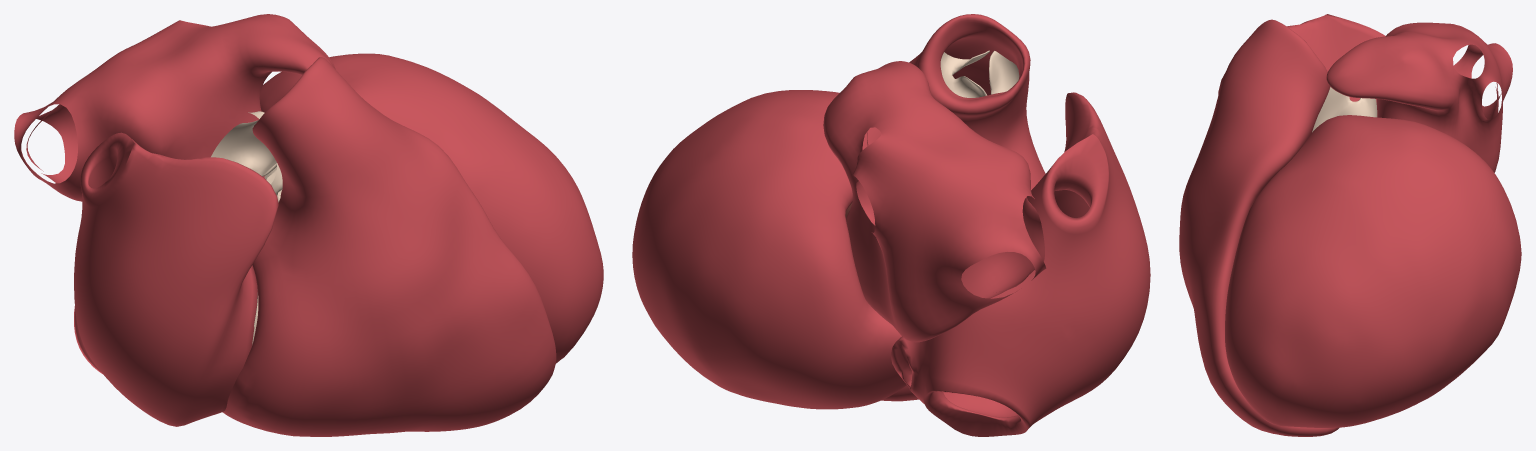
Rendered from heart-desktop.glb.
3 renders of one model, left to right at view 1: azimuth 30°, elevation 25°; view 2: azimuth 150°, elevation 25°; view 3: azimuth 270°, elevation 25°, orthographic. The views are drawn at different scales.
Parts seen in each view (by area): view 1: VH_F_right_ventricle, VH_F_right_cardiac_atrium, VH_F_left_ventricle, VH_F_left_cardiac_atrium, VH_F_aortic_valve; view 2: VH_F_left_ventricle, VH_F_right_cardiac_atrium, VH_F_left_cardiac_atrium, VH_F_right_ventricle, VH_F_pulmonary_valve; view 3: VH_F_left_ventricle, VH_F_right_ventricle, VH_F_left_cardiac_atrium, VH_F_right_cardiac_atrium, VH_F_aortic_valve.
Boxes of the visible parts, bbox=[...] form: VH_F_right_ventricle: bbox=[222, 57, 556, 436]; VH_F_right_cardiac_atrium: bbox=[74, 132, 278, 426]; VH_F_left_ventricle: bbox=[259, 53, 603, 363]; VH_F_left_cardiac_atrium: bbox=[14, 14, 335, 201]; VH_F_aortic_valve: bbox=[211, 111, 282, 202]; VH_F_left_ventricle: bbox=[632, 90, 906, 409]; VH_F_right_cardiac_atrium: bbox=[890, 92, 1150, 436]; VH_F_left_cardiac_atrium: bbox=[823, 61, 1046, 342]; VH_F_right_ventricle: bbox=[881, 14, 1045, 401]; VH_F_pulmonary_valve: bbox=[940, 50, 1019, 97]; VH_F_left_ventricle: bbox=[1225, 115, 1521, 427]; VH_F_right_ventricle: bbox=[1179, 19, 1339, 436]; VH_F_left_cardiac_atrium: bbox=[1326, 22, 1512, 172]; VH_F_right_cardiac_atrium: bbox=[1218, 14, 1385, 101]; VH_F_aortic_valve: bbox=[1312, 87, 1377, 132].
Size of the model in its own units: 0.1425 by 0.11 by 0.1015.
